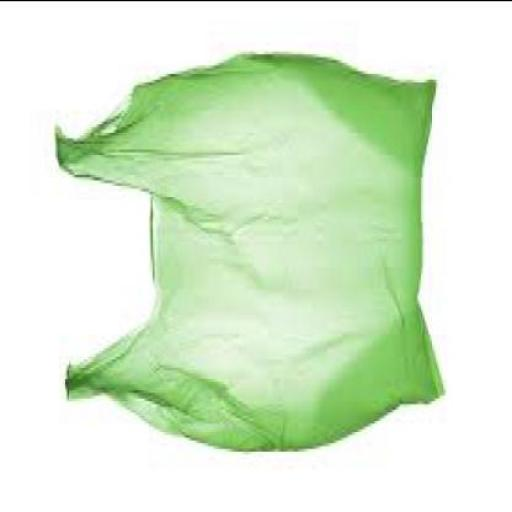plastic: (54, 53, 443, 457)
